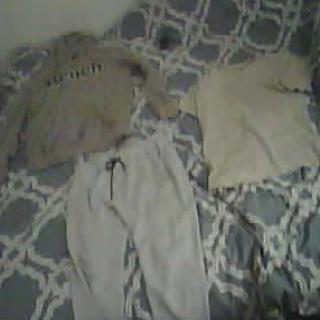White Sweatpants: (75, 148, 206, 320)
Yellow Hoodie: (2, 31, 165, 161)
Yellow T-Shirt: (180, 51, 320, 182)
